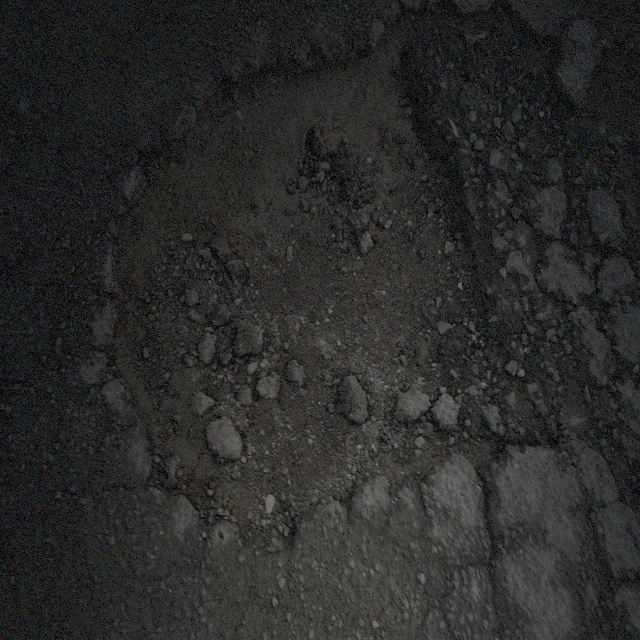pothole: (104, 39, 532, 520)
